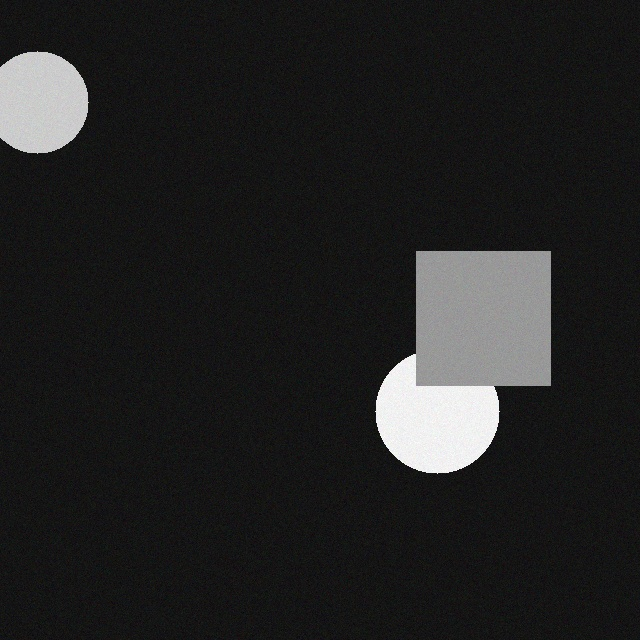circle: (389, 359, 513, 483), (0, 61, 102, 163)
square: (430, 261, 564, 395)
